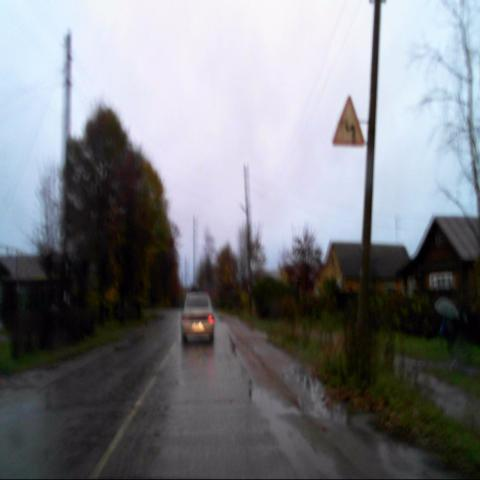1_12_2: (331, 95, 365, 147)
